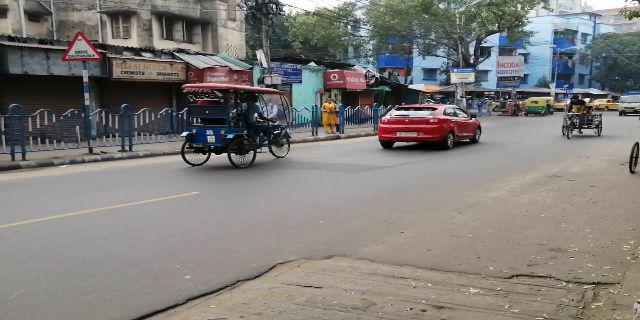Car: (378, 103, 482, 149)
Rickshaw: (178, 79, 294, 175), (558, 113, 606, 138)
